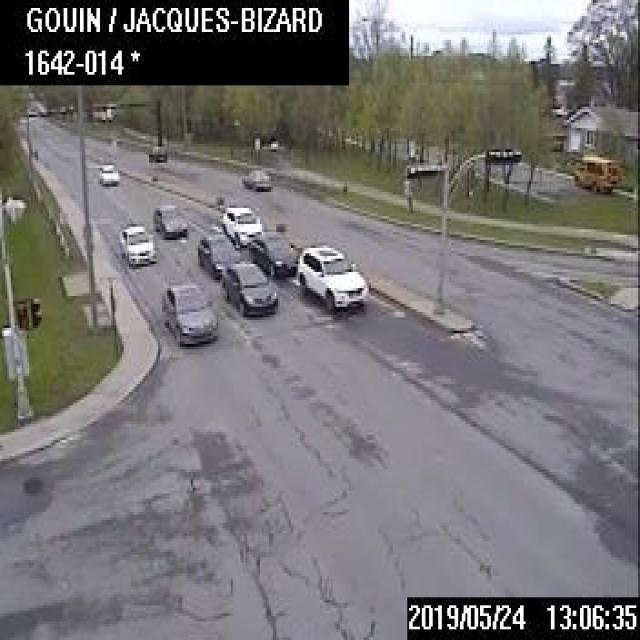bus: (572, 153, 621, 191)
vehicle: (296, 243, 368, 311), (160, 282, 217, 342), (221, 258, 277, 314), (196, 223, 242, 277), (247, 230, 296, 276), (222, 204, 262, 246), (118, 222, 156, 264), (152, 202, 186, 235), (240, 167, 271, 189), (97, 162, 119, 184), (147, 140, 165, 160)
